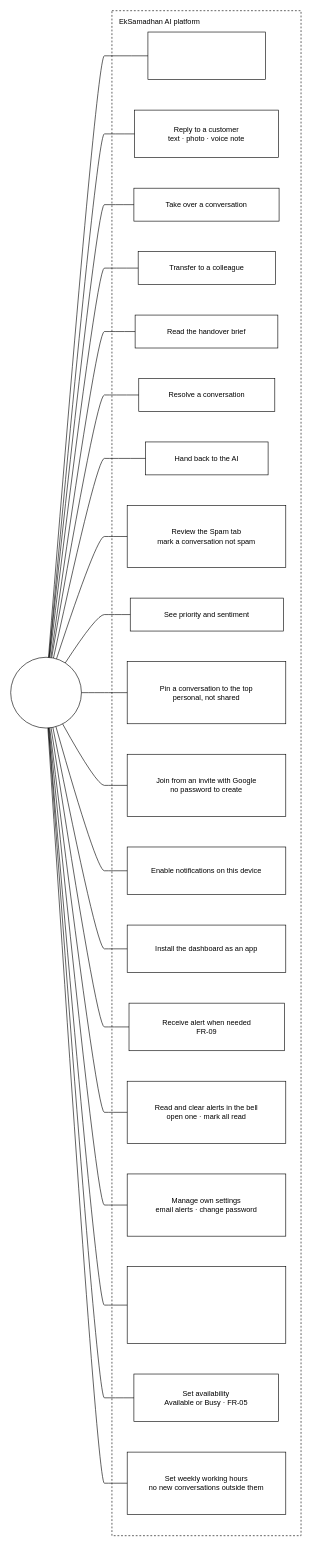
Some shapes in this 312 by 1546 pixel diagram are drawn without their labels. The shapes that lost their labels are listed below. From the top down, each one's centre as x and y in pixels, then its label:
At pixel 206 55: "View unified inbox FR-06".
At pixel 45 692: "Support Agent".
At pixel 206 1305: "Leave the workspace download my data · deactivate · delete my account".
